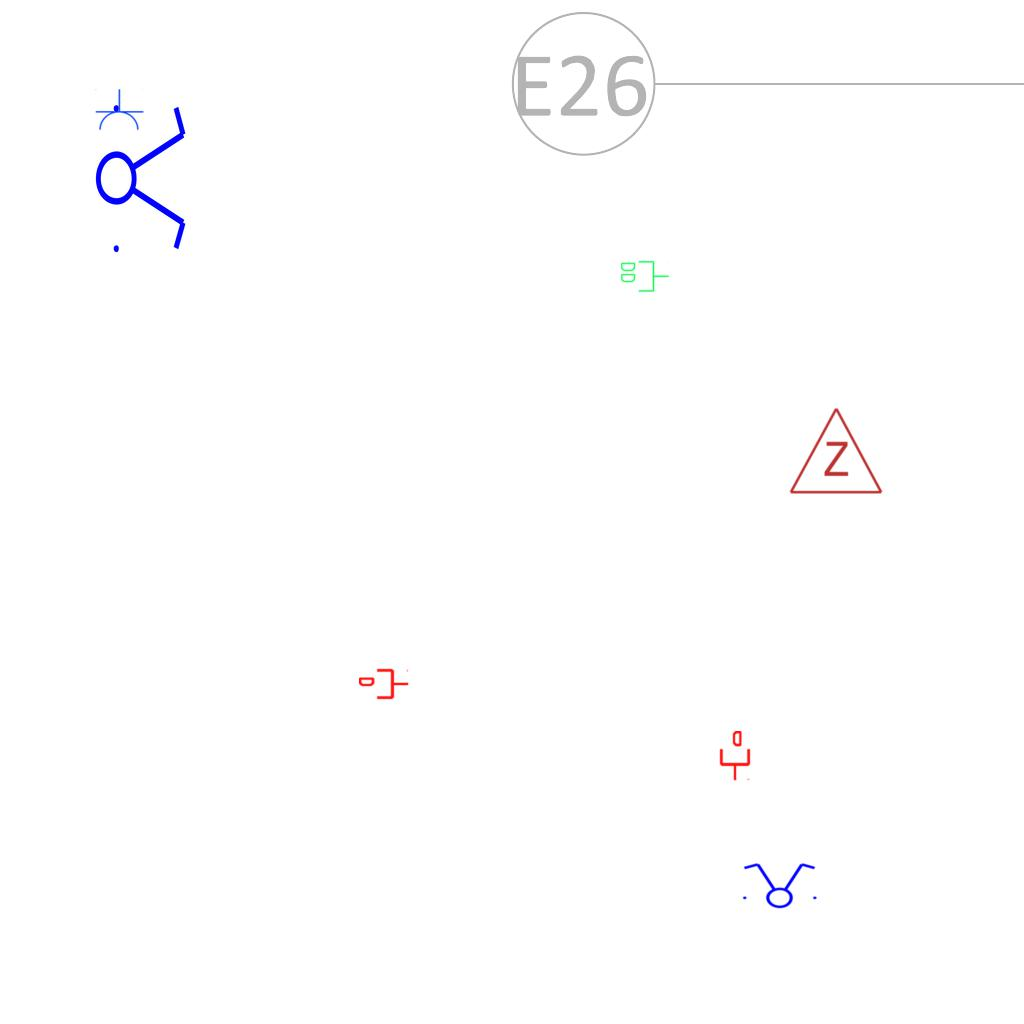Datenanschluss_einfach: (359, 667, 409, 701), (718, 731, 752, 781)
Datenanschluss_zweifach: (619, 259, 670, 293)
Schukosteckdose_einfach: (94, 89, 144, 132)
Serienschalter: (94, 93, 190, 261), (737, 861, 821, 909)
Zimmersignalleuchte: (786, 401, 884, 501)
